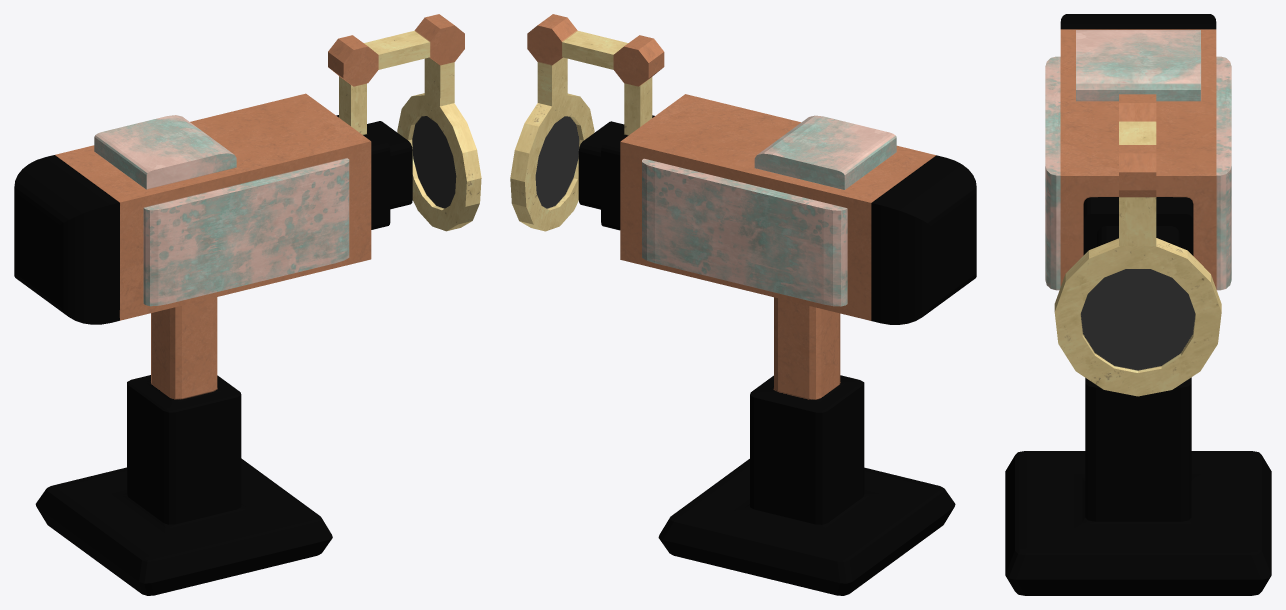
The model's file is Surveillance_Camera.fbx.
3 renders of one model, left to right at view 1: azimuth 30°, elevation 25°; view 2: azimuth 150°, elevation 25°; view 3: azimuth 270°, elevation 25°, orthographic. The views are drawn at different scales.
Parts seen in each view (by area): view 1: CameraModel; view 2: CameraModel; view 3: CameraModel.
Part boxes in pixels (<box>): CameraModel: <box>14,14,481,595</box>; CameraModel: <box>510,14,976,595</box>; CameraModel: <box>1005,14,1271,595</box>.
Size of the model in its own units: 44.2 by 45.98 by 20.37.
